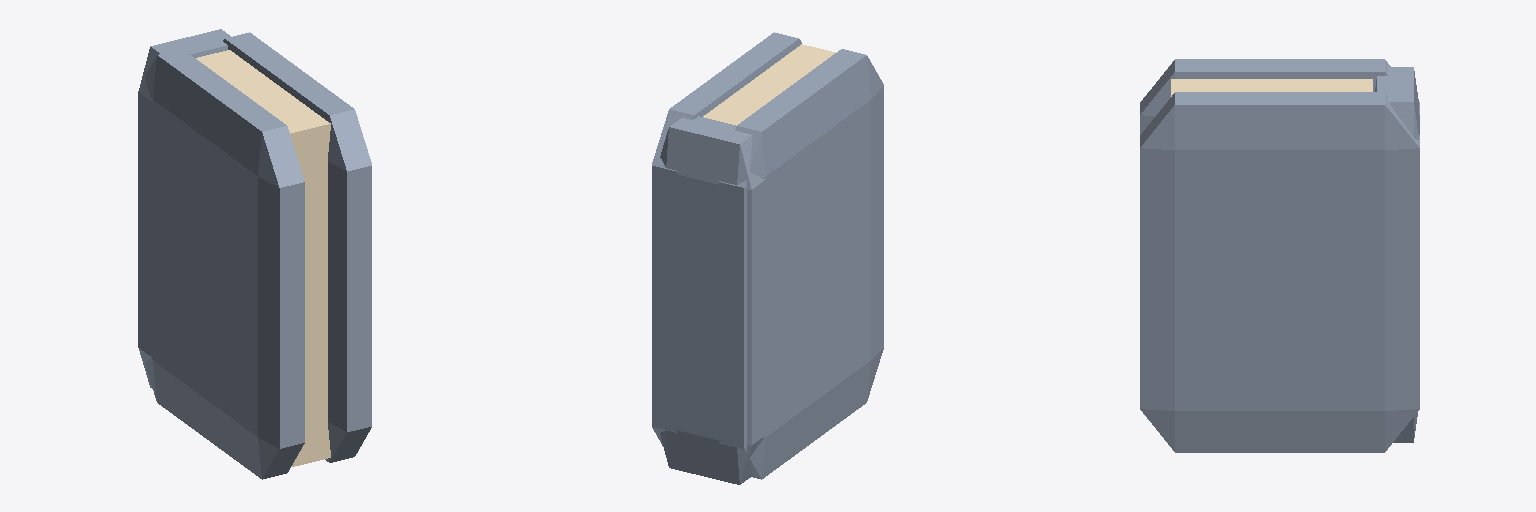
Rendered from Book3.obj.
The picture shows the model from 3 angles: view 1: azimuth 30°, elevation 25°; view 2: azimuth 150°, elevation 25°; view 3: azimuth 270°, elevation 25°; orthographic projection.
Visible parts, largest first — view 1: mergedBlocks; view 2: mergedBlocks; view 3: mergedBlocks.
Part boxes in pixels (x1,y1,x2,y2): mergedBlocks: (138, 29, 371, 479); mergedBlocks: (652, 32, 883, 484); mergedBlocks: (1140, 59, 1419, 452).
Size of the model in its own units: 0.09 by 0.2952 by 0.2155.